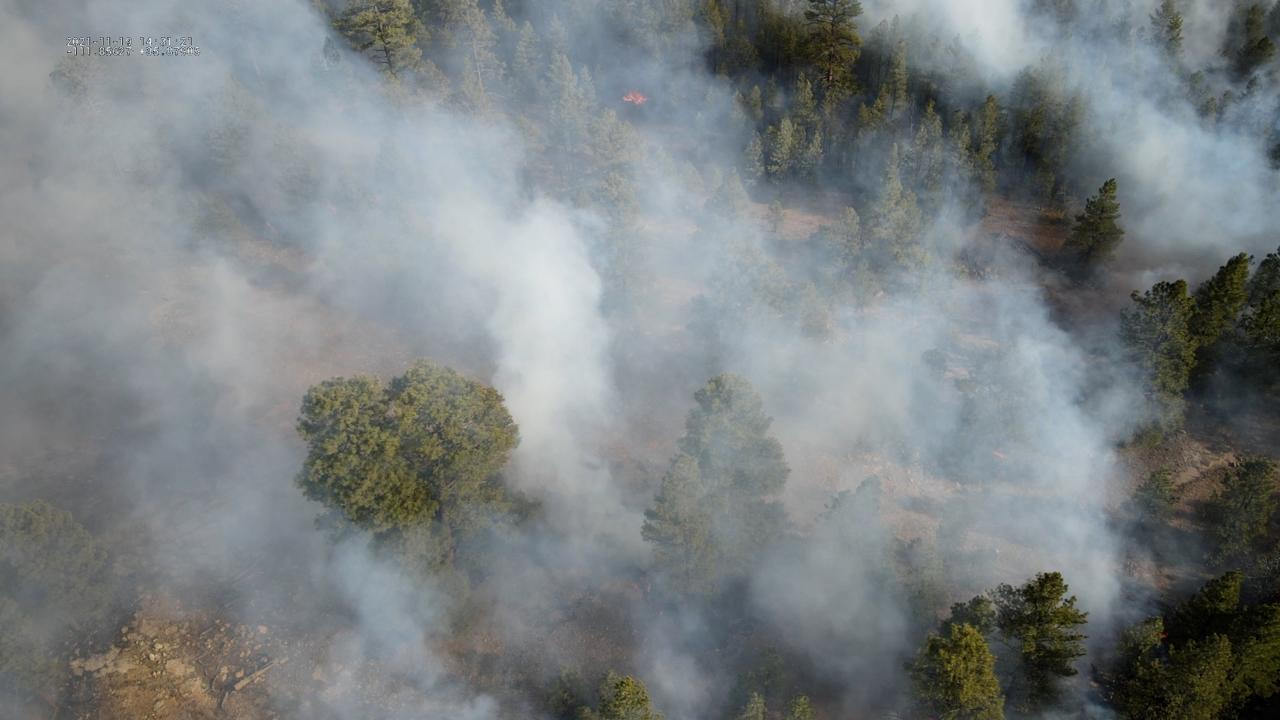fire: (619, 87, 652, 107)
smoke: (0, 0, 1280, 720)
